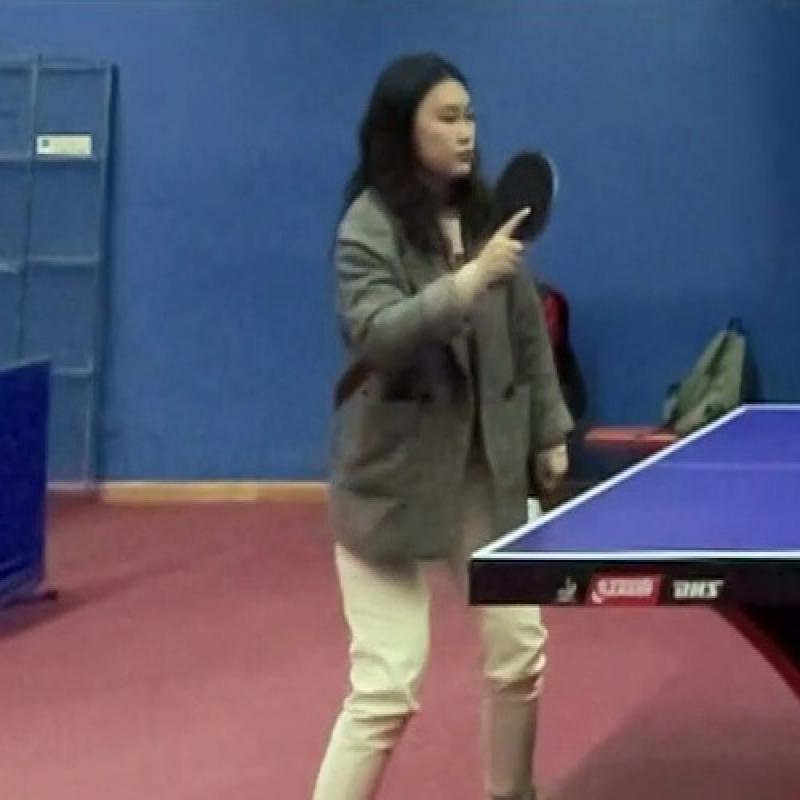bats: (459, 146, 573, 261)
